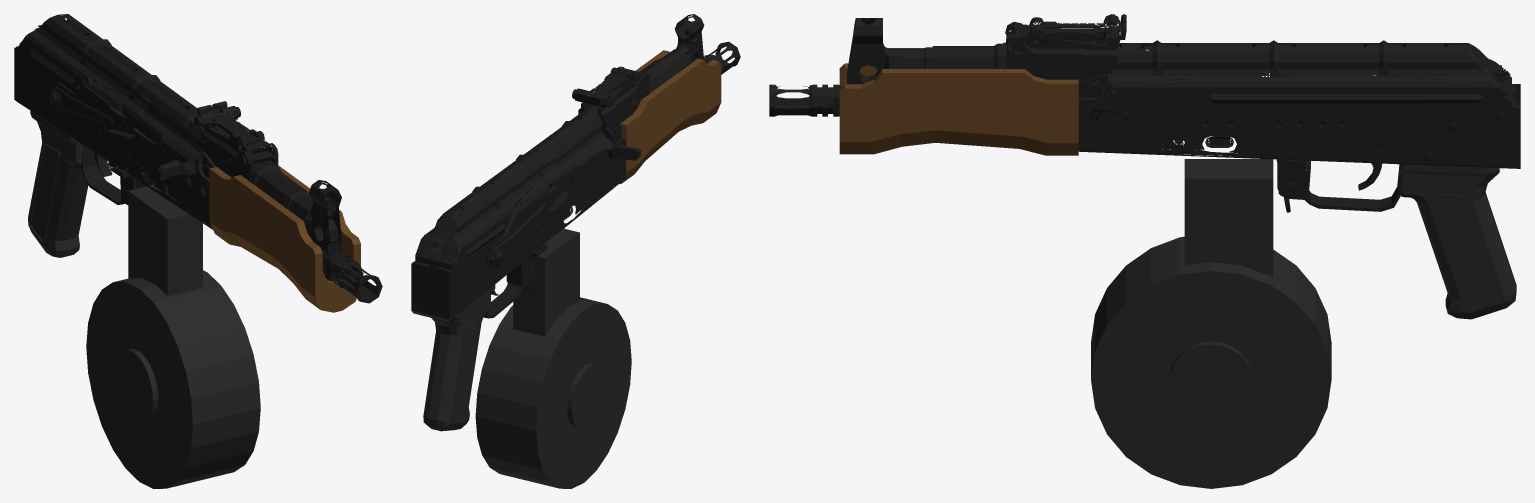
The picture shows the model from 3 angles, left to right: view 1: azimuth 30°, elevation 25°; view 2: azimuth 150°, elevation 25°; view 3: azimuth 270°, elevation 25°; orthographic projection. The views are drawn at different scales.
Parts seen in each view (by area): view 1: draco_mesh; view 2: draco_mesh; view 3: draco_mesh.
Boxes of the visible parts, <box> form: draco_mesh: <box>14,14,382,488</box>; draco_mesh: <box>411,14,740,488</box>; draco_mesh: <box>769,14,1520,488</box>.
Size of the model in its own units: 0.0902 by 0.3649 by 0.55.
